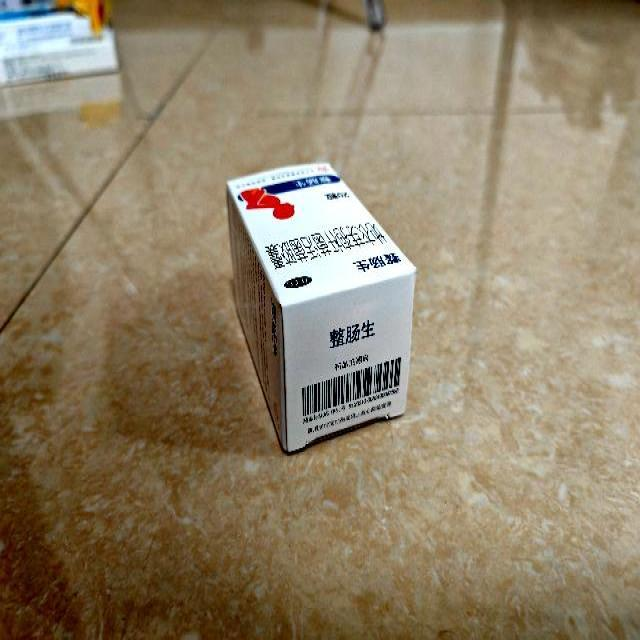box: (227, 160, 416, 450)
